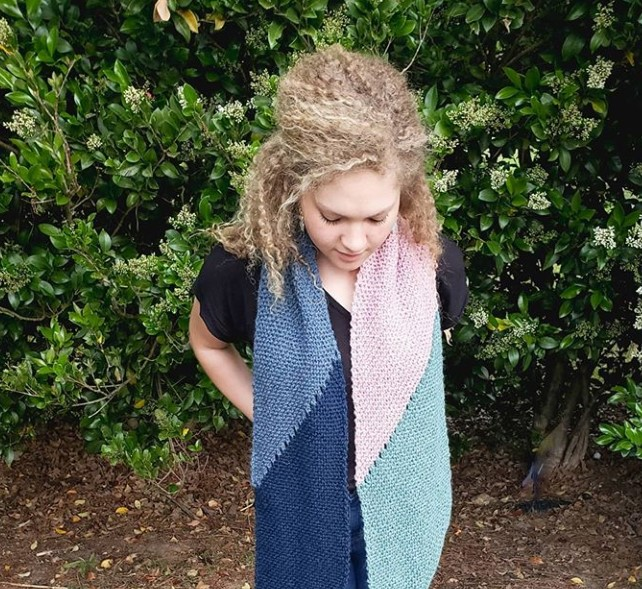face_no_mask: (288, 77, 405, 267)
